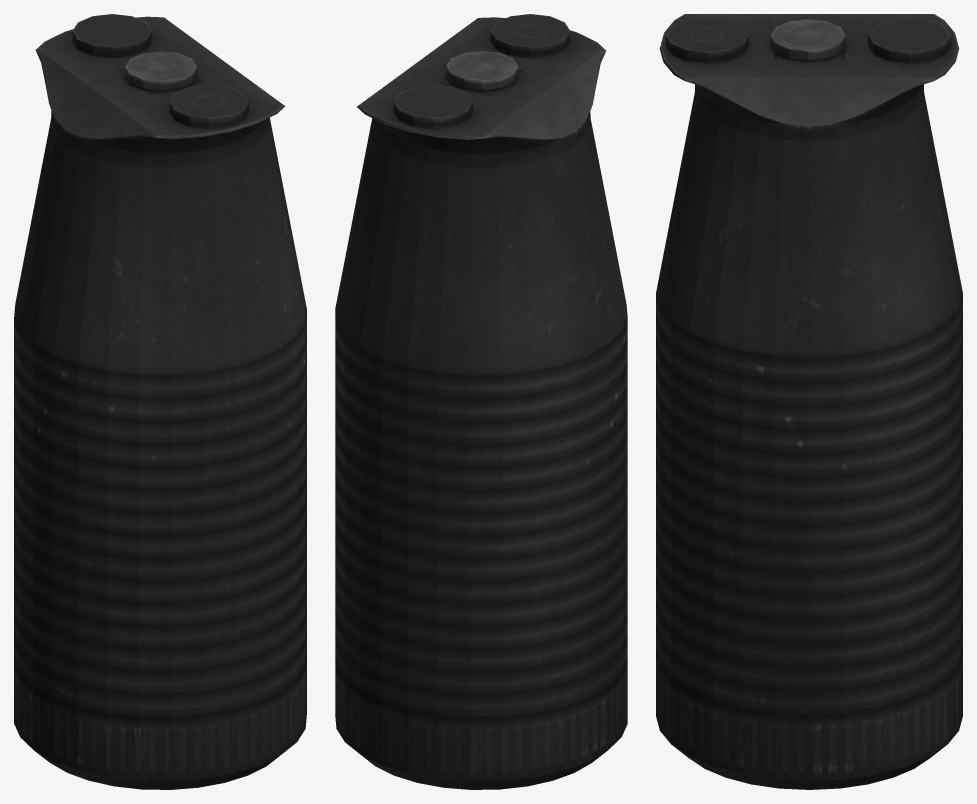
The picture shows the model from 3 angles, left to right: view 1: azimuth 30°, elevation 25°; view 2: azimuth 150°, elevation 25°; view 3: azimuth 270°, elevation 25°; orthographic projection. The views are drawn at different scales.
Visible parts, largest first — view 1: TW_615d8fd3290d254f5e6b2edc_PZ_Import; view 2: TW_615d8fd3290d254f5e6b2edc_PZ_Import; view 3: TW_615d8fd3290d254f5e6b2edc_PZ_Import.
Boxes of the visible parts, x1,y1,x2,y2 form: TW_615d8fd3290d254f5e6b2edc_PZ_Import: [14, 14, 306, 789]; TW_615d8fd3290d254f5e6b2edc_PZ_Import: [335, 14, 627, 789]; TW_615d8fd3290d254f5e6b2edc_PZ_Import: [656, 14, 962, 789].
Bounding box in the file's own units: 0.0174 × 0.0175 × 0.0439.
Materials: 1 (1 with a texture image).
